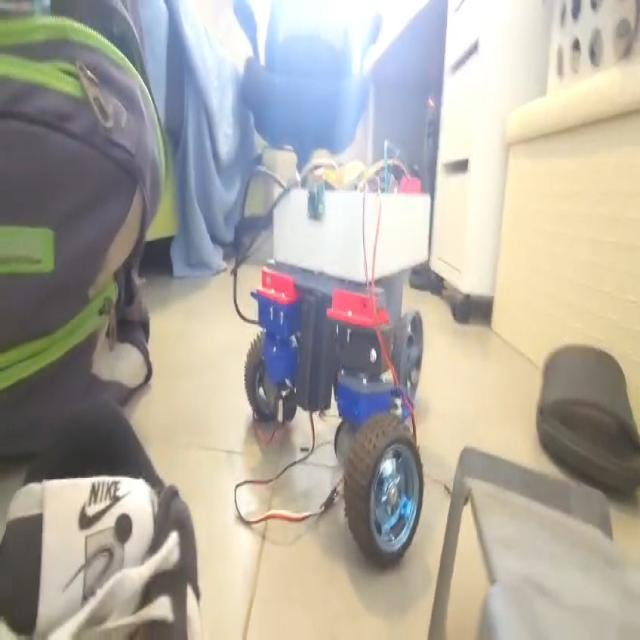Robot: (244, 160, 432, 570)
